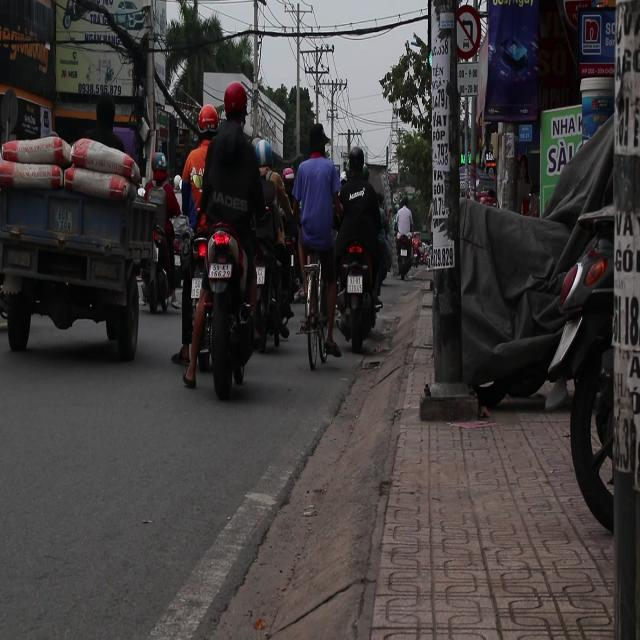motorbike: (538, 157, 640, 572), (178, 208, 260, 399), (334, 241, 384, 353)
truck: (0, 54, 164, 364)
